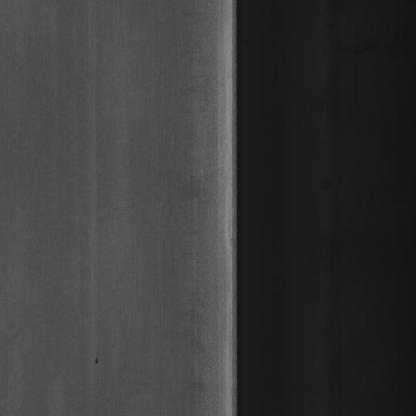inclusion: (89, 343, 105, 374)
